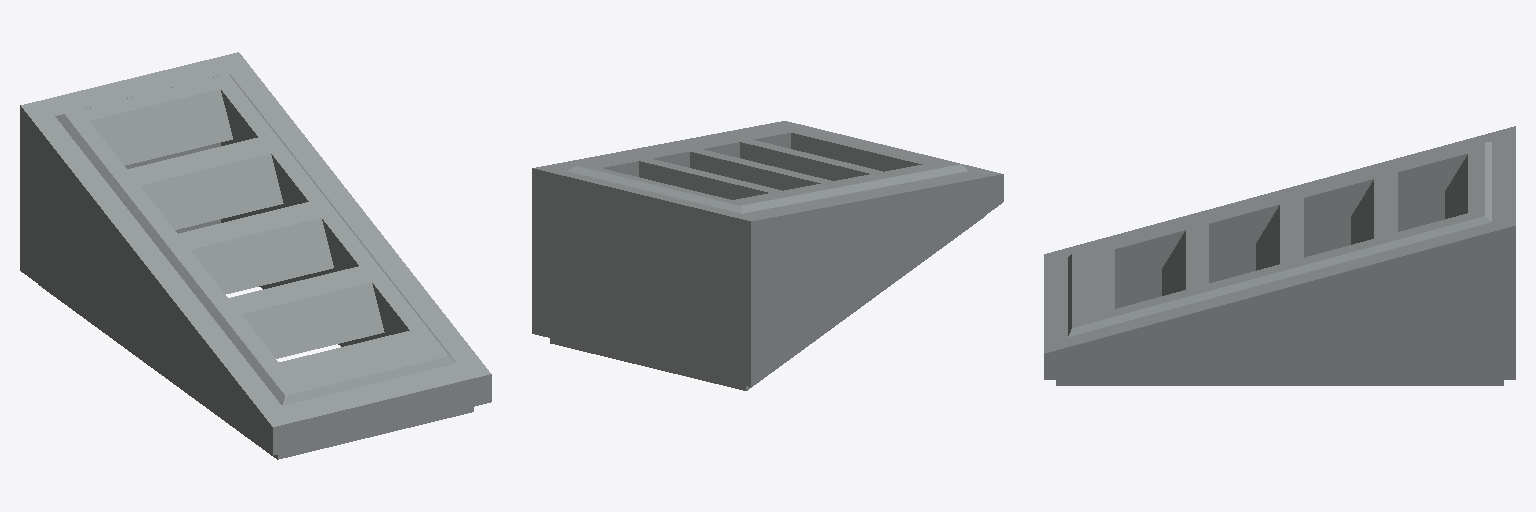
The robot description file, URDF, robot "61409__light_bluish_gray":
<?xml version="1.0"?>
<robot name="61409__light_bluish_gray">
  <link name="61409__light_bluish_gray">
    <inertial>
      <origin xyz="-0.000000 0.001626 0.002239" rpy="0 0 0"/>
      <mass value="0.000529"/>
      <inertia ixx="1.093053122e-08" ixy="-2.355406870e-25" ixz="-5.277017758e-26" iyy="3.923294067e-09" iyz="-1.465018683e-09" izz="1.254372389e-08"/>
    </inertial>
    <visual>
      <geometry>
        <mesh filename="../meshes/visual/61409.obj" scale="1 1 1"/>
      </geometry>
      <material name="61409__light_bluish_gray_color">
        <color rgba="0.630 0.650 0.650 1.000"/>
      </material>
    </visual>
    <collision>
      <geometry>
        <mesh filename="../meshes/collision/61409_hull.obj" scale="1 1 1"/>
      </geometry>
    </collision>
  </link>
</robot>

--- Facts derived from the render (not from the file) ---
3 views of the same robot in one strip: view 1: azimuth 30°, elevation 25°; view 2: azimuth 150°, elevation 25°; view 3: azimuth 270°, elevation 25° (orthographic).
Robot: 61409__light_bluish_gray — 1 links, 0 joints (none); root link 61409__light_bluish_gray; default pose: all joints at 0.
Visible links, largest first — view 1: 61409__light_bluish_gray; view 2: 61409__light_bluish_gray; view 3: 61409__light_bluish_gray.
Boxes of the visible links, x1=… form: 61409__light_bluish_gray: x1=20, y1=52, x2=491, y2=459; 61409__light_bluish_gray: x1=532, y1=121, x2=1003, y2=390; 61409__light_bluish_gray: x1=1044, y1=126, x2=1515, y2=385.
Bounding box of the posed robot: 0.008 × 0.016 × 0.0062 m (x, y, z).
1 mesh visuals loaded from 1 distinct referenced files (1 OBJ).
